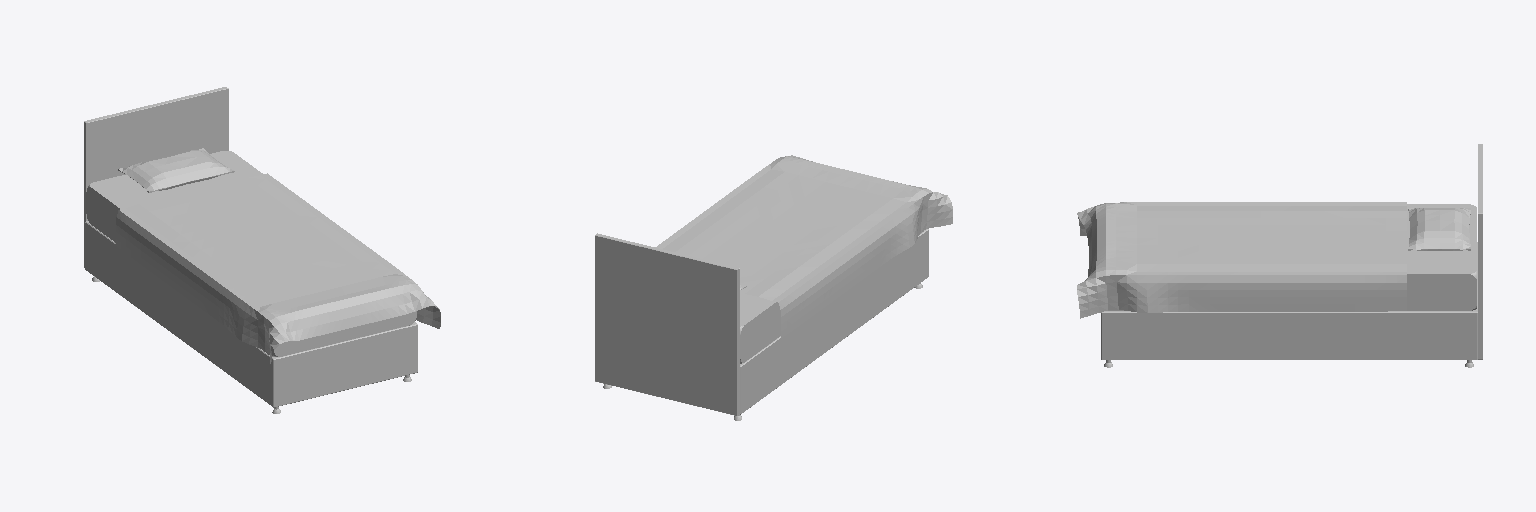
The model's file is bed.obj.
3 renders of one model, left to right at view 1: azimuth 30°, elevation 25°; view 2: azimuth 150°, elevation 25°; view 3: azimuth 270°, elevation 25°, orthographic.
Parts seen in each view (by area): view 1: Plane, Cube.001, Cube.003, Cube.002, Cube.003_Cube.005; view 2: Plane, Cube.003, Cube.001, Cube.002; view 3: Plane, Cube.001, Cube.002, Cube.003_Cube.005, Cube.003.
Part boxes in pixels (x1,y1,x2,y2): Plane: (116,173,440,363); Cube.001: (85,221,417,407); Cube.003: (84,87,228,267); Cube.002: (86,151,416,356); Cube.003_Cube.005: (118,148,234,192); Plane: (655,155,952,338); Cube.003: (595,233,739,415); Cube.001: (740,229,928,414); Cube.002: (740,231,923,363); Plane: (1077,202,1406,318); Cube.001: (1101,242,1477,359); Cube.002: (1108,204,1476,310); Cube.003_Cube.005: (1408,208,1470,250); Cube.003: (1478,144,1482,359).
Bounding box in the file's own units: 5.12 × 4.48 × 10.63.